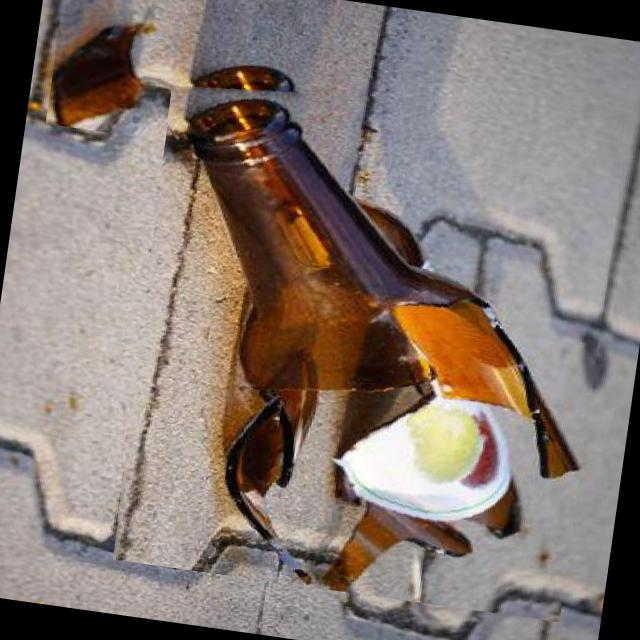Glass: (104, 45, 630, 622), (45, 8, 164, 138)
